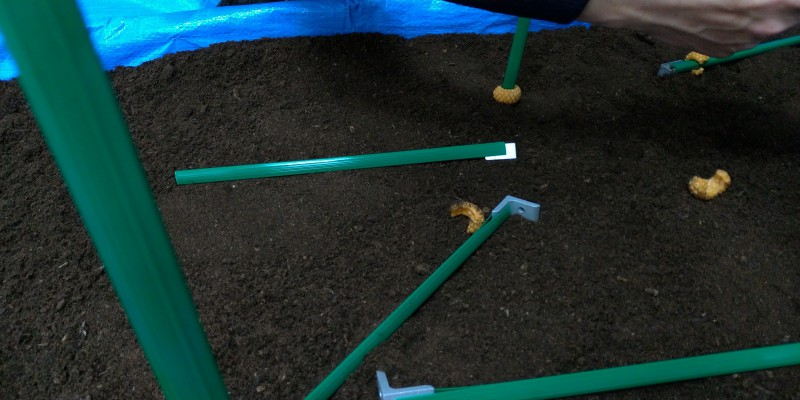eggs: (447, 193, 487, 237), (686, 165, 733, 202), (490, 82, 526, 105), (682, 50, 709, 80)
